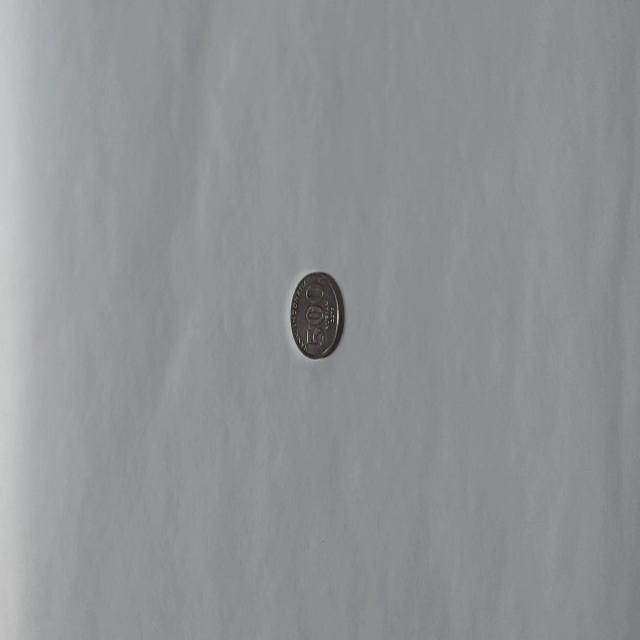lima ratus rupiah: (288, 270, 342, 359)
